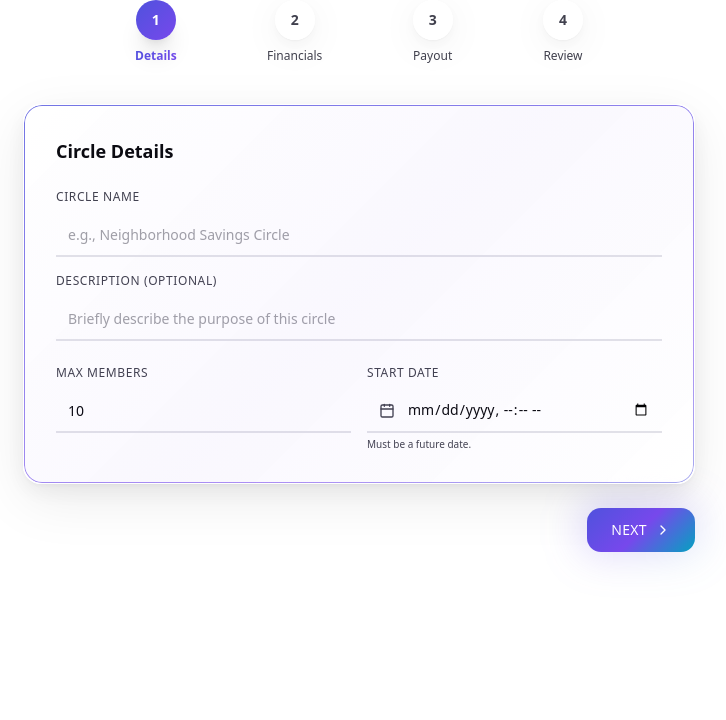
Test case: CircleCreateForm — last step submission › renders Create Circle button on last step
Type "My Valid Circle" into the field with placeholder "e.g., Neighborhood Savings Circle" at (359, 235), box [56,213,662,257]
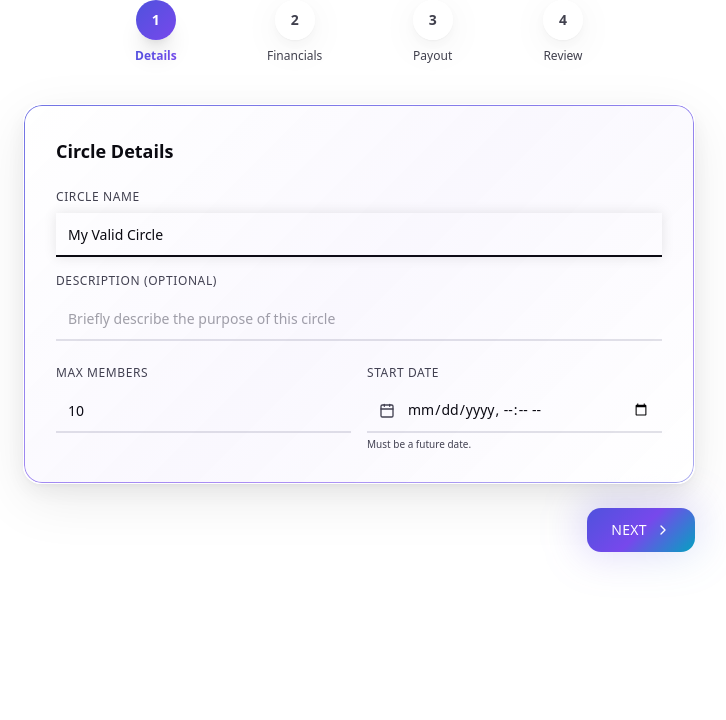
Click the button "Next" at (641, 530), box [587,508,695,552]
(page scrolled)
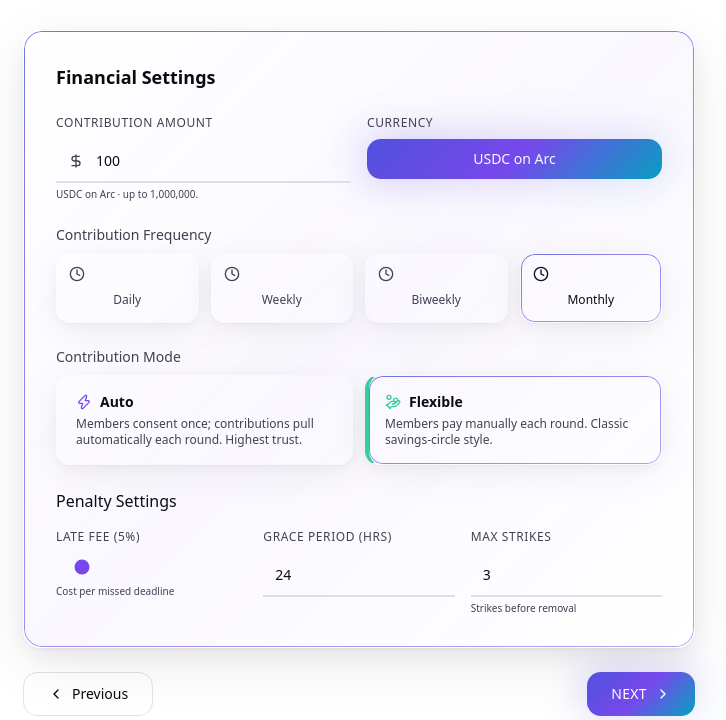
Click the button "Next" at (641, 694), box [587,672,695,716]
(page scrolled)
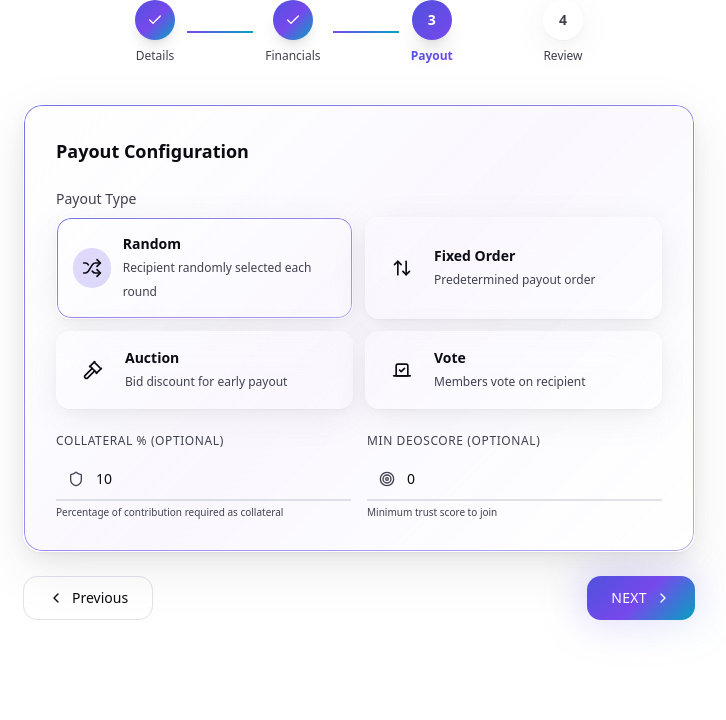
Click the button "Next" at (641, 598), box [587,576,695,620]
(page scrolled)
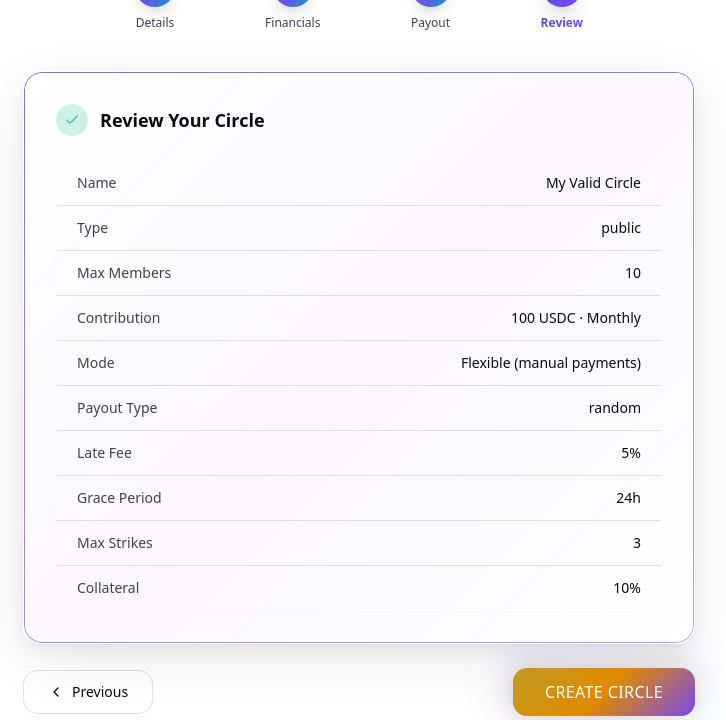
expect the button "Create Circle" is shown: met, box [513,668,695,716]
